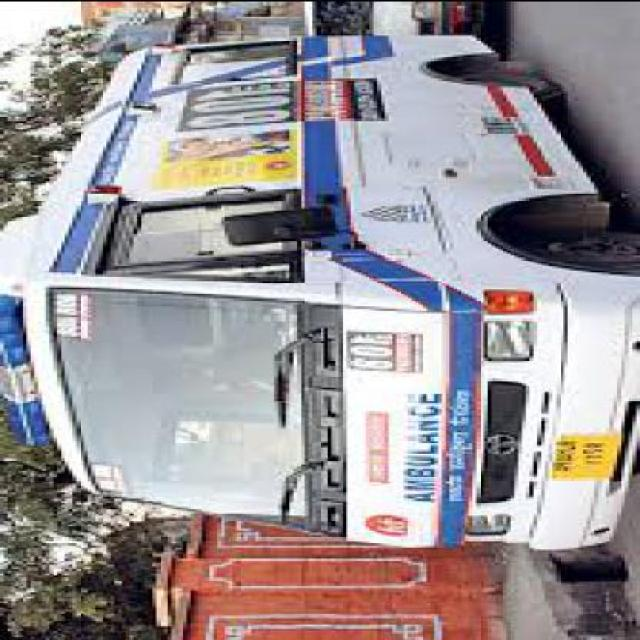Ambulance: (8, 27, 635, 559)
